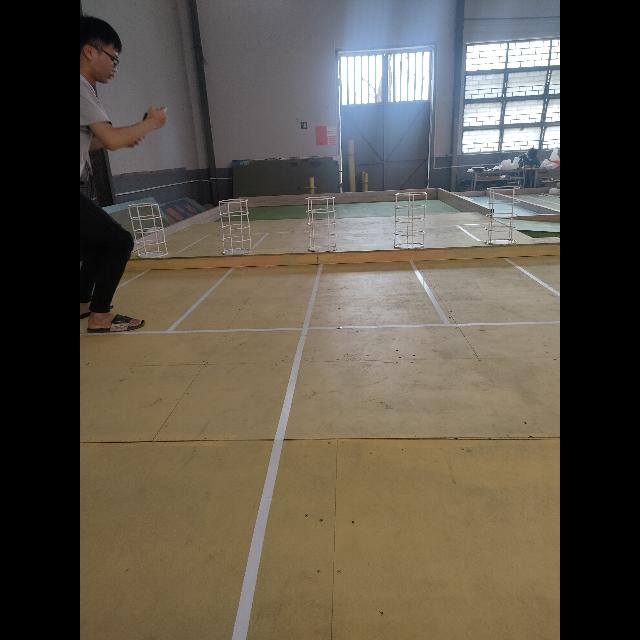S: (127, 202, 169, 259), (484, 186, 521, 245), (393, 191, 428, 250), (218, 198, 252, 256), (305, 196, 338, 252)
